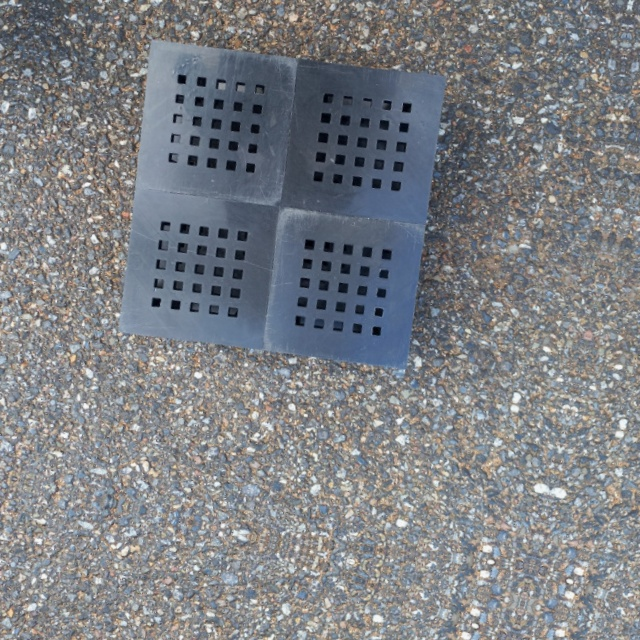pallet: (102, 31, 459, 392)
